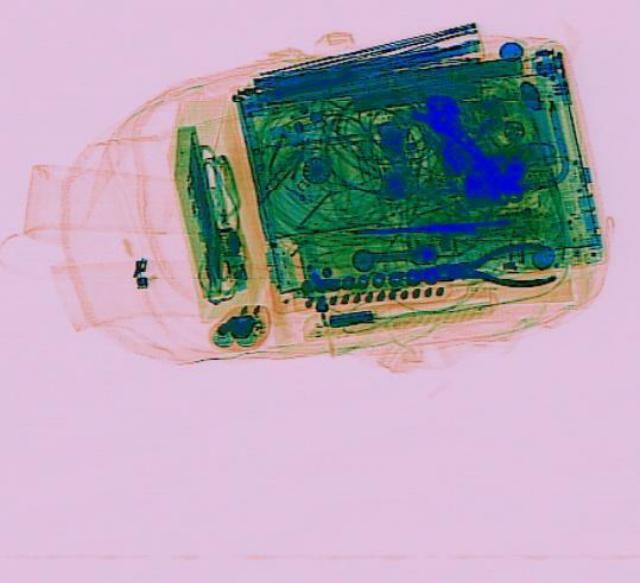Pliers: (410, 238, 556, 295)
